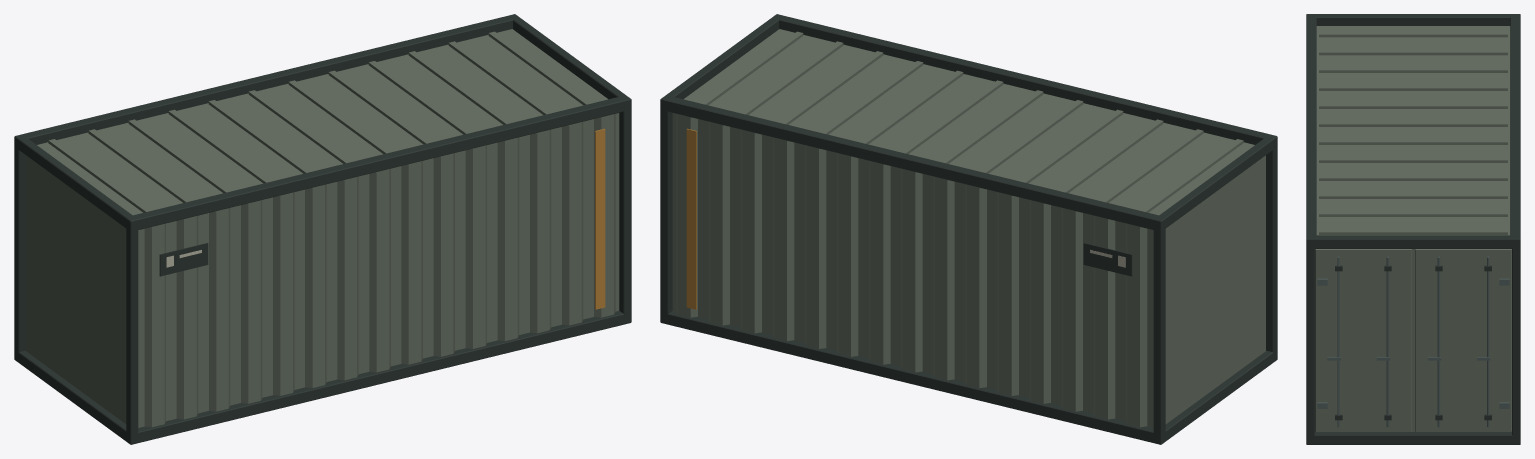
File: ShippingContainer.glb
3 renders of one model, left to right at view 1: azimuth 30°, elevation 25°; view 2: azimuth 150°, elevation 25°; view 3: azimuth 270°, elevation 25°, orthographic. The views are drawn at different scales.
Visible parts, largest first — view 1: ShippingContainer_Export; view 2: ShippingContainer_Export; view 3: ShippingContainer_Export.
Boxes of the visible parts, bbox=[...] form: ShippingContainer_Export: bbox=[14, 14, 631, 444]; ShippingContainer_Export: bbox=[660, 14, 1277, 444]; ShippingContainer_Export: bbox=[1306, 14, 1520, 444].
Size of the model in its own units: 6.06 by 2.59 by 2.44.
1 material, 1 textured.
